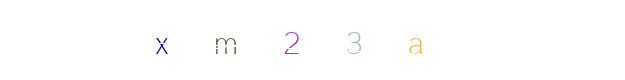2: (245, 0, 325, 80)
3: (272, 0, 352, 80)
A: (278, 0, 358, 80)
M: (230, 0, 310, 80)
X: (121, 0, 201, 80)
